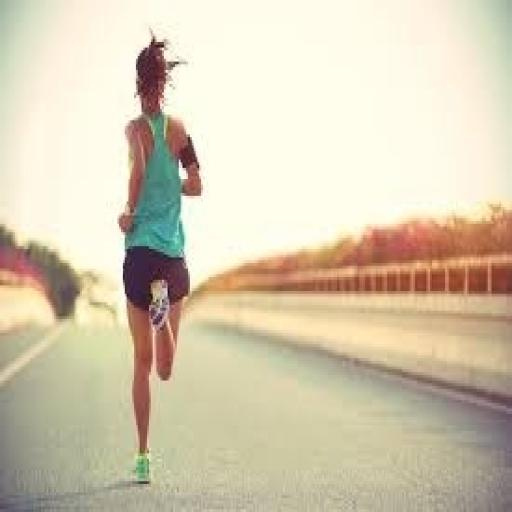running: (115, 28, 205, 487)
